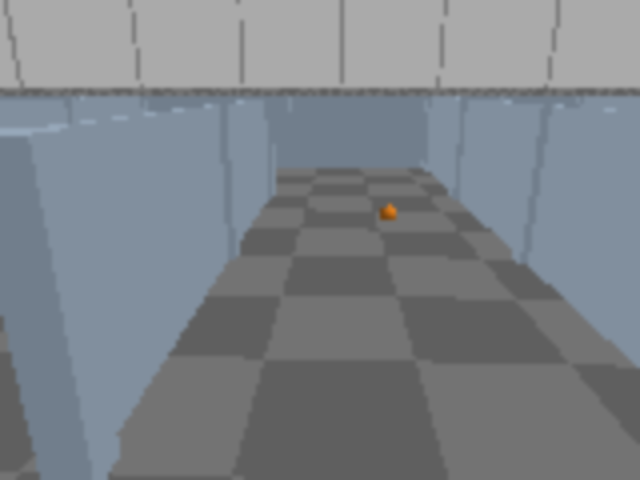puck: (379, 204, 399, 224)
